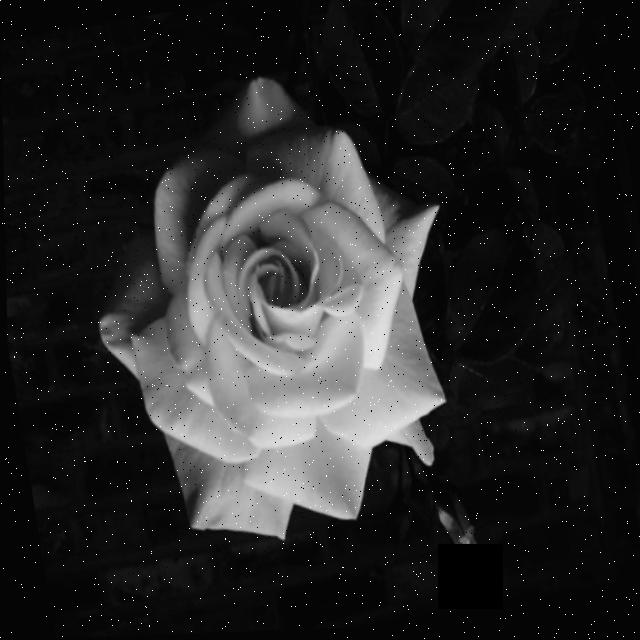rose: (38, 17, 516, 595)
